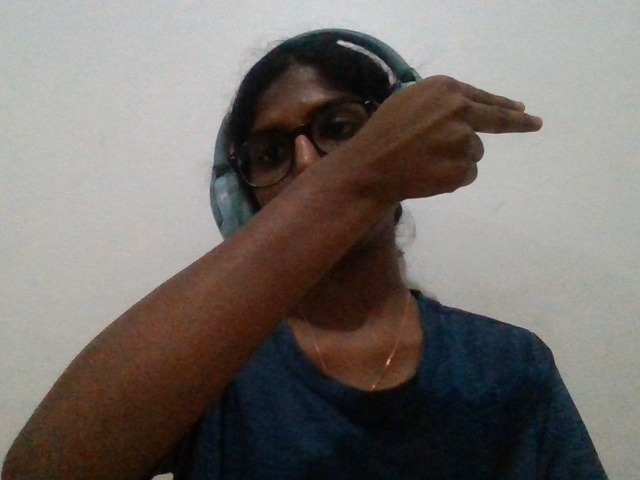H: (217, 63, 572, 253)
